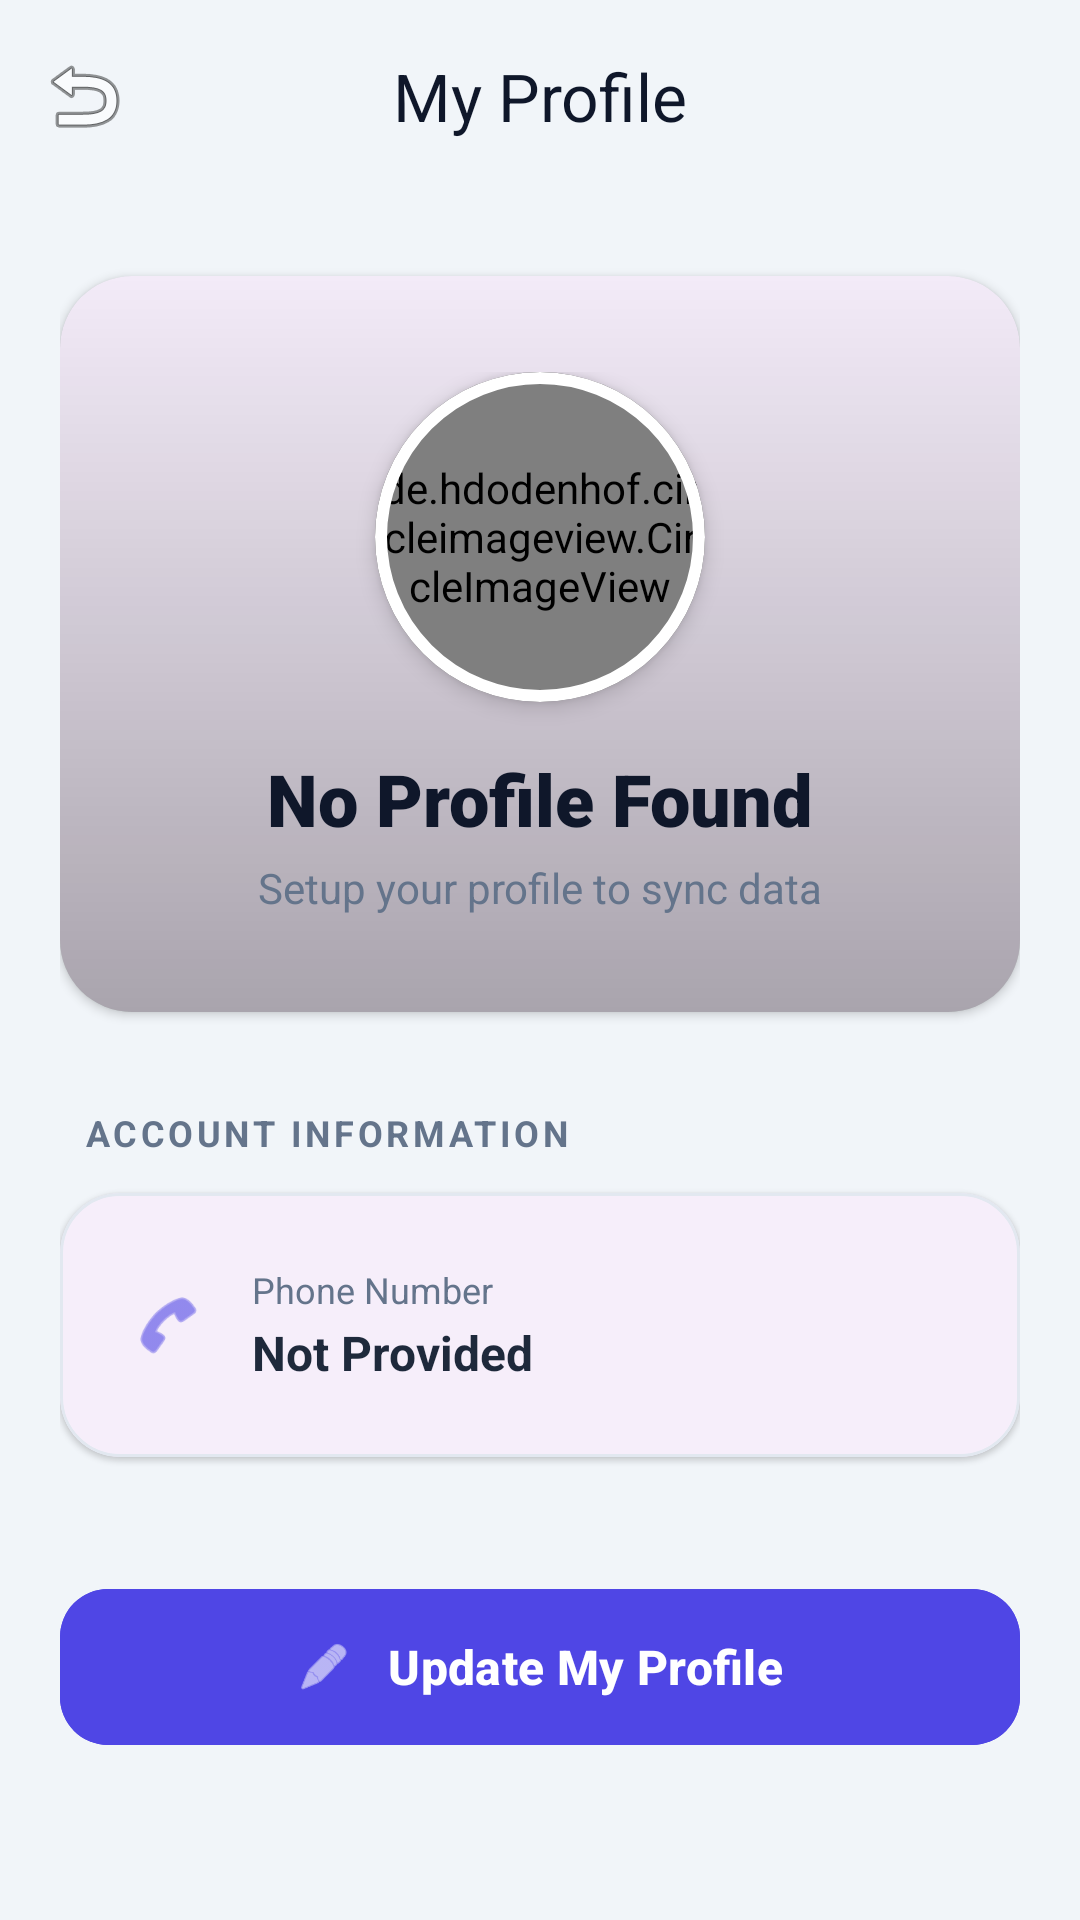

Screen size 1080px×1920px. Icon name, then its box in pixels as Rect(x1, y1, x2, y2):
call: Rect(140, 1297, 196, 1353)
